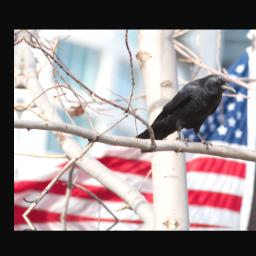Crow: (132, 68, 238, 155)
